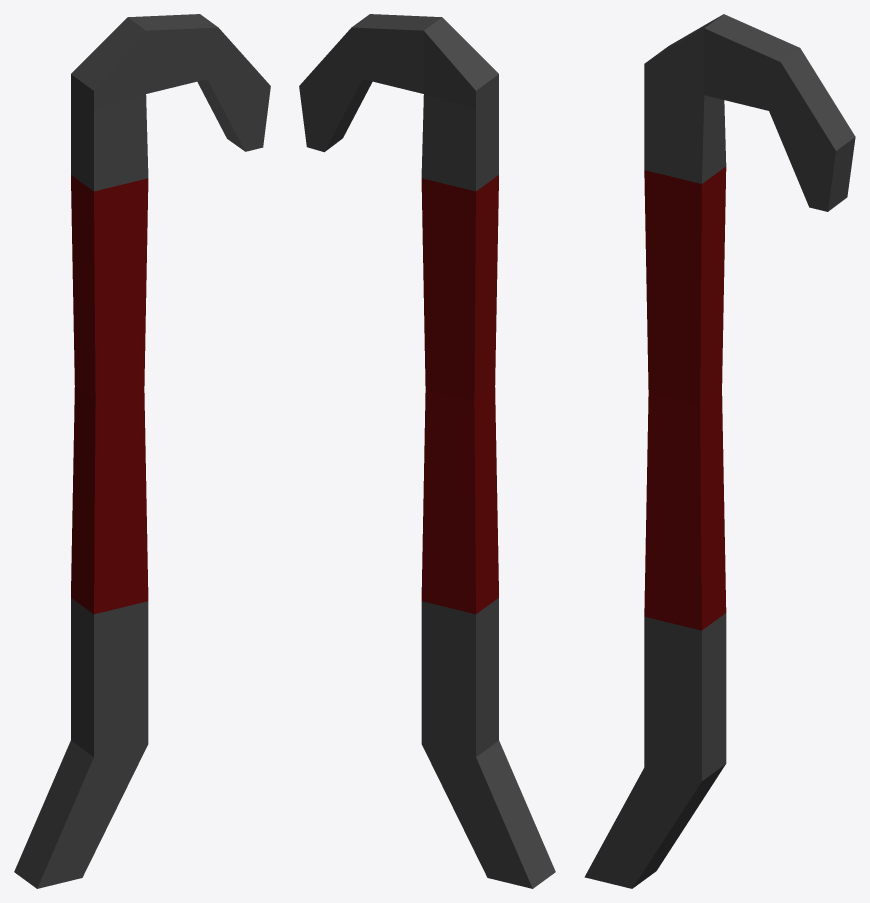
Rendered from Crowbar.fbx.
3 renders of one model, left to right at view 1: azimuth 30°, elevation 25°; view 2: azimuth 150°, elevation 25°; view 3: azimuth 330°, elevation 25°, orthographic. The views are drawn at different scales.
Visible parts, largest first — view 1: Crowbar; view 2: Crowbar; view 3: Crowbar.
Boxes of the visible parts, <box> form: Crowbar: <box>14,14,270,888</box>; Crowbar: <box>299,14,555,888</box>; Crowbar: <box>584,14,855,888</box>.
Bounding box in the file's own units: 0.167 × 0.5609 × 0.0283.
